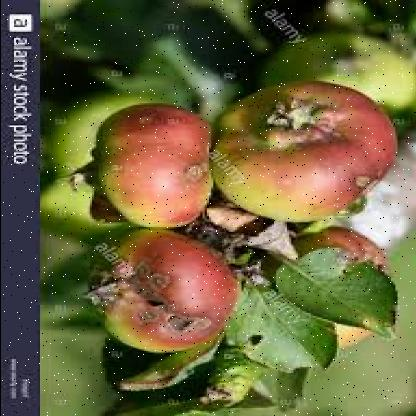damaged_apple: (223, 77, 392, 226), (98, 232, 236, 358), (279, 222, 403, 356), (100, 102, 228, 226)
